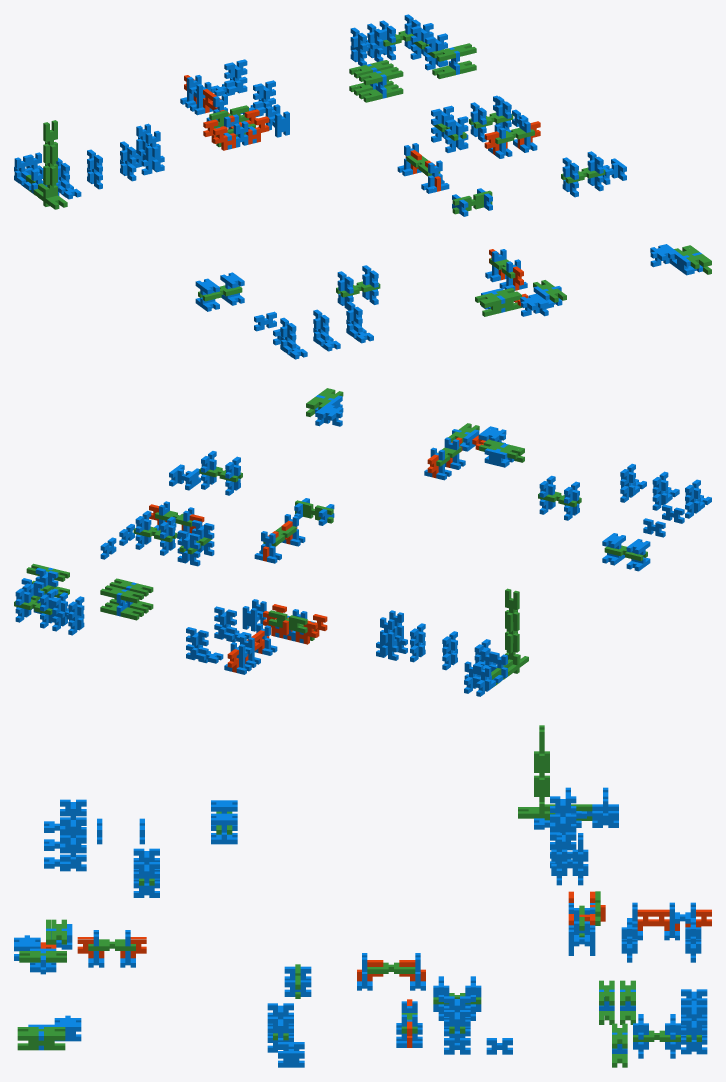
The model's file is fur.glb.
3 renders of one model, top to bottom at view 1: azimuth 30°, elevation 25°; view 2: azimuth 150°, elevation 25°; view 3: azimuth 270°, elevation 25°, orthographic. The views are drawn at different scales.
Visible parts, largest first — view 1: H_SIM; view 2: H_SIM; view 3: H_SIM (×2).
Part boxes in pixels (x1,y1,x2,y2): H_SIM: (482, 293, 521, 316); H_SIM: (268, 610, 307, 633); H_SIM (×2): (17, 751, 549, 1050).
Bounding box in the file's own units: 14.56 × 2.47 × 17.09.
